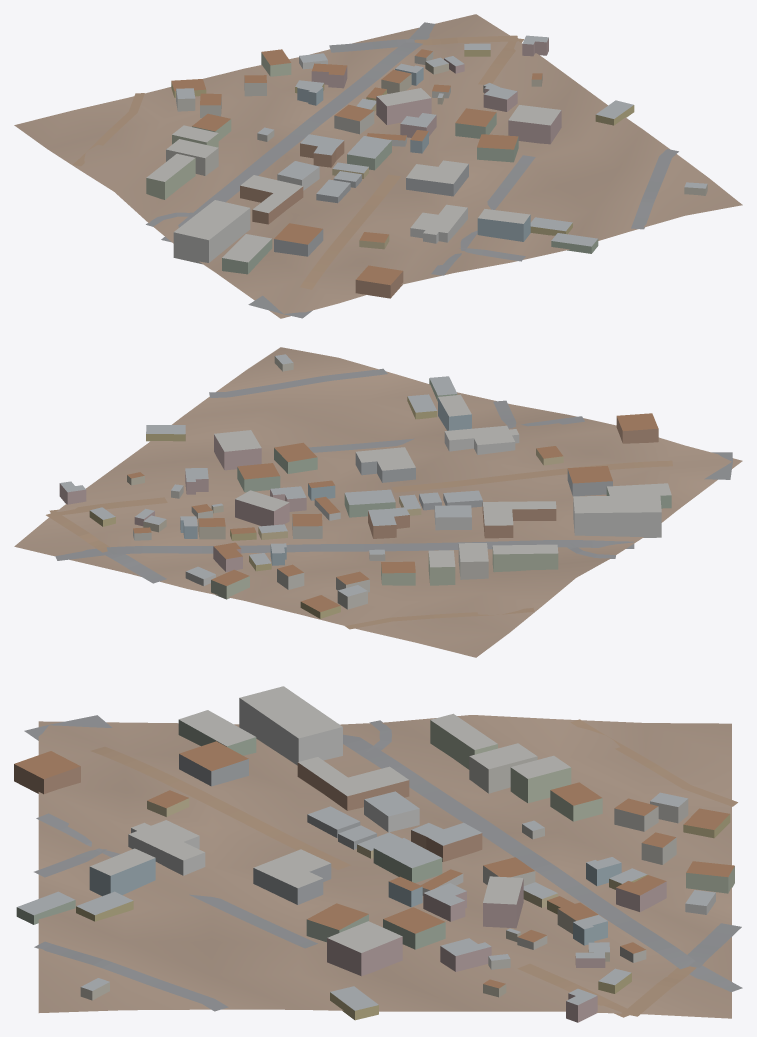
The picture shows the model from 3 angles, top to bottom: view 1: azimuth 30°, elevation 25°; view 2: azimuth 150°, elevation 25°; view 3: azimuth 270°, elevation 25°; orthographic projection. The views are drawn at different scales.
Visible parts, largest first — view 1: Lo; view 2: Lo; view 3: Lo.
Boxes of the visible parts, box(x1,y1,x2,y2) form: Lo: box(14, 14, 742, 318); Lo: box(14, 347, 742, 657); Lo: box(14, 686, 742, 1022).
Bounding box in the file's own units: 271 × 13.5 × 269.
